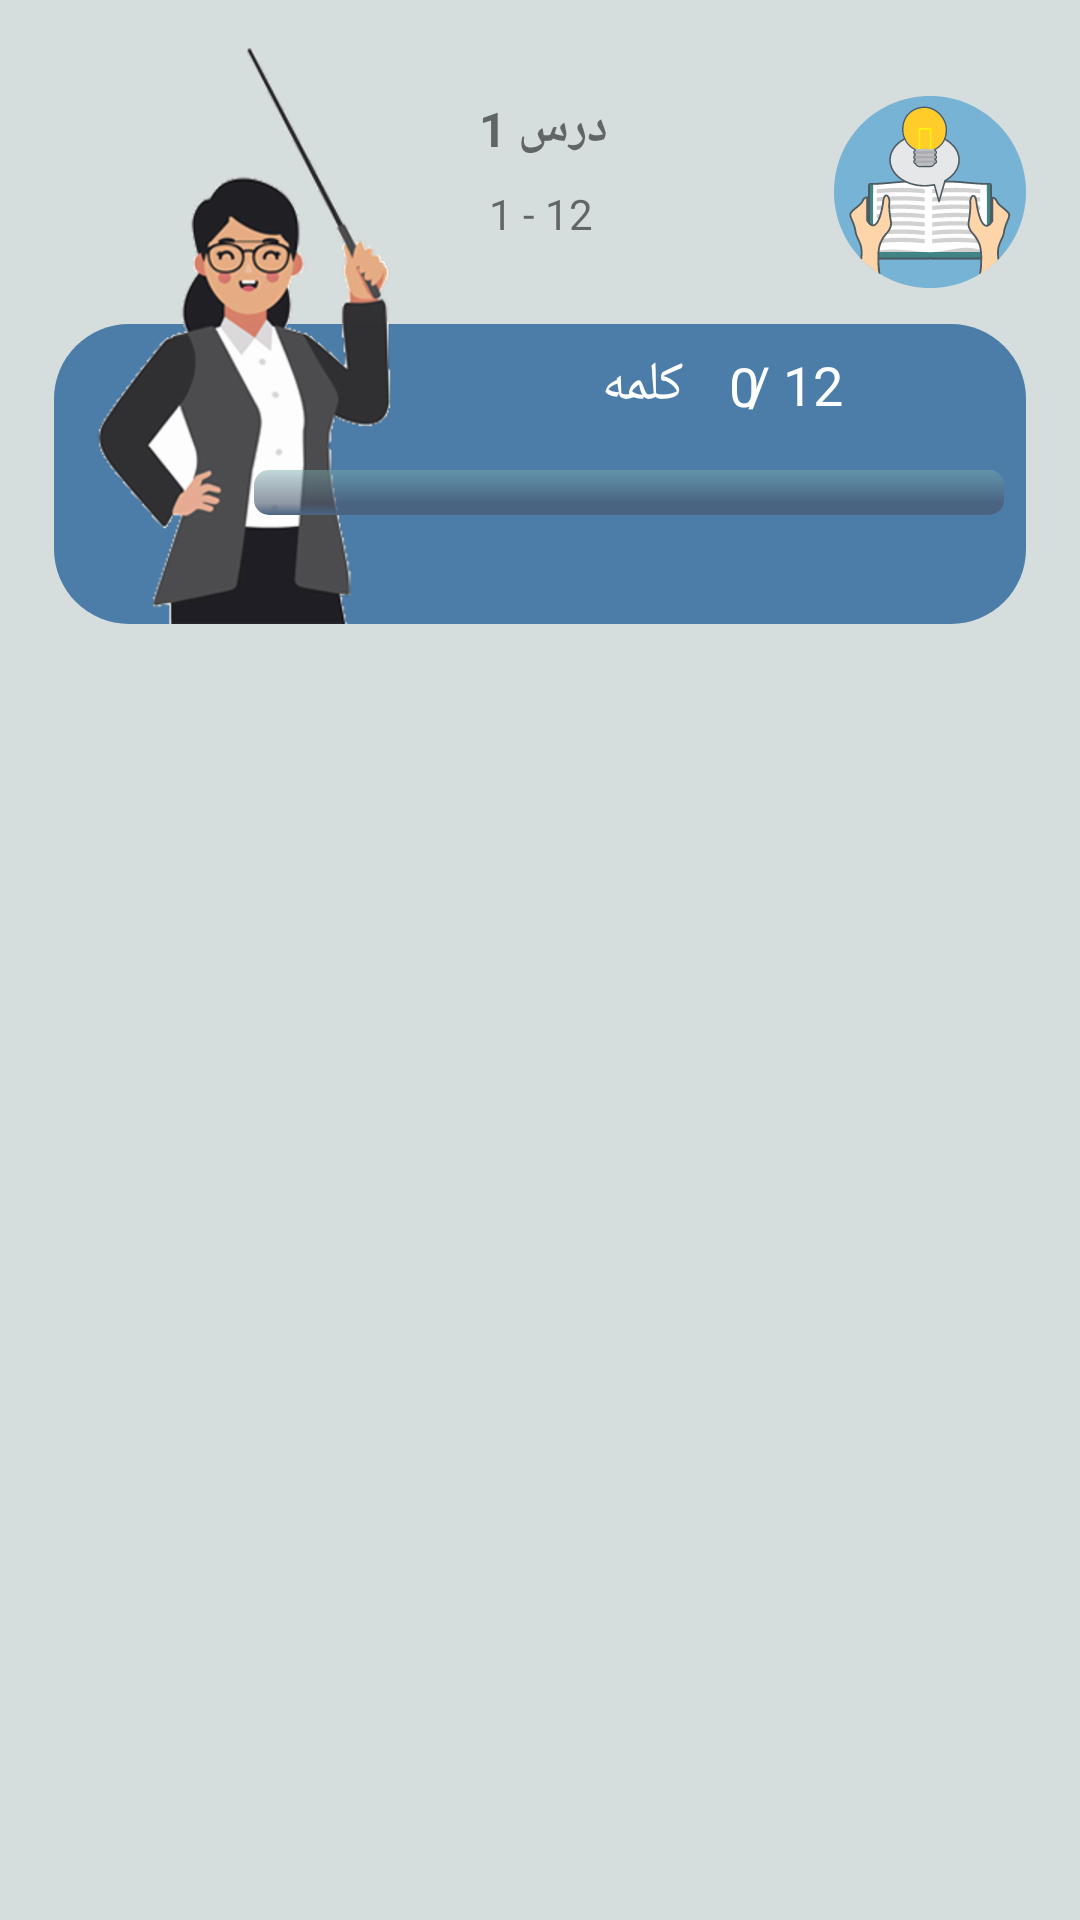

Where icons sit on this 1080*1920 app screen, as (x1, y1, x2, y2):
book studing: (834, 96, 1026, 288)
